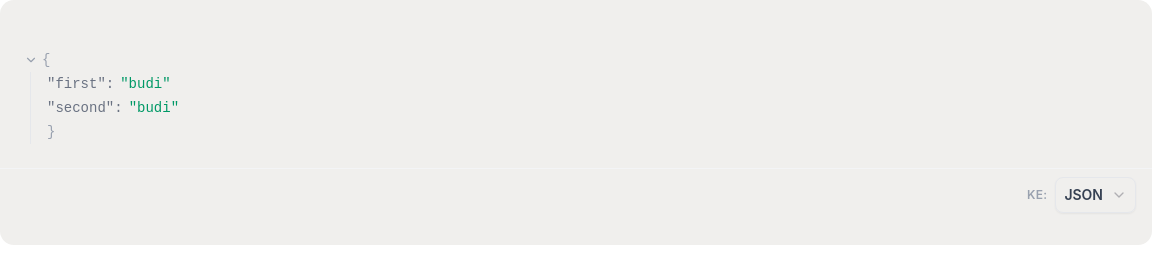
it: in-panel search › cycles through matches with Enter and the toolbar buttons
The width and height of the screenshot is (1152, 262).
Press f
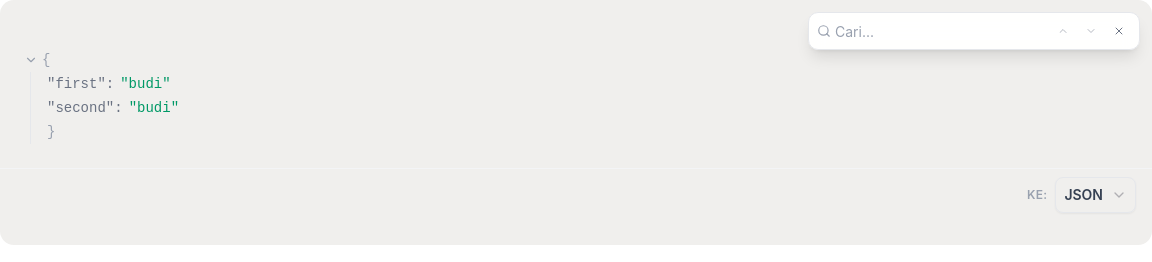
In the field named "Kata kunci pencarian": coordinates (915, 31) x1=835 y1=17 x2=995 y2=45, type "budi"
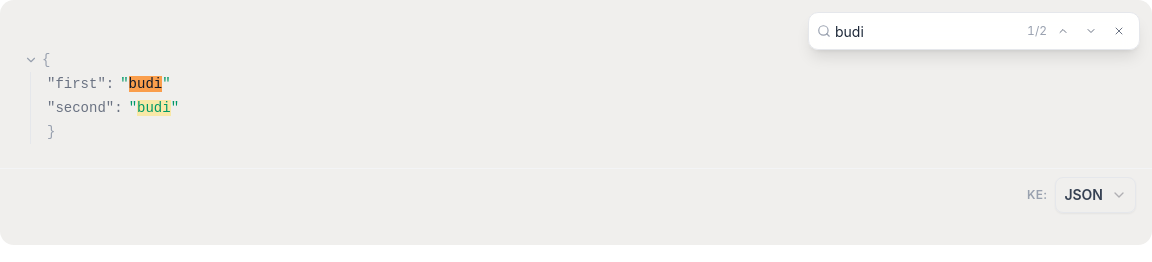
Expected: the text "1/2" is shown, x1=1027 y1=23 x2=1047 y2=38
Press Enter in the field named "Kata kunci pencarian", box x1=835 y1=17 x2=995 y2=45
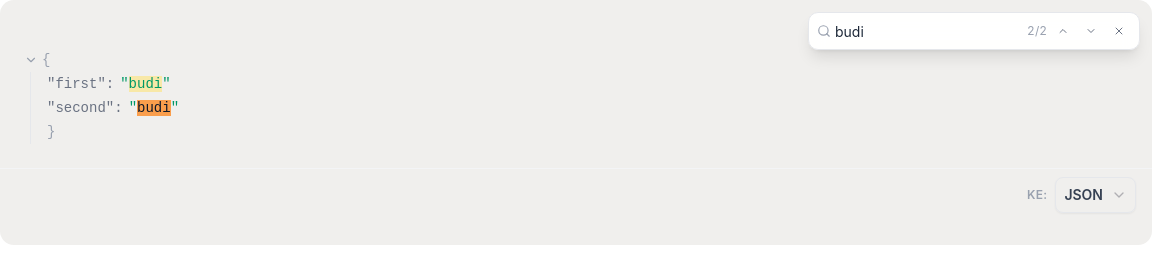
Expected: the text "2/2" is shown, x1=1027 y1=23 x2=1047 y2=38
Press Enter in the field named "Kata kunci pencarian", box x1=835 y1=17 x2=995 y2=45
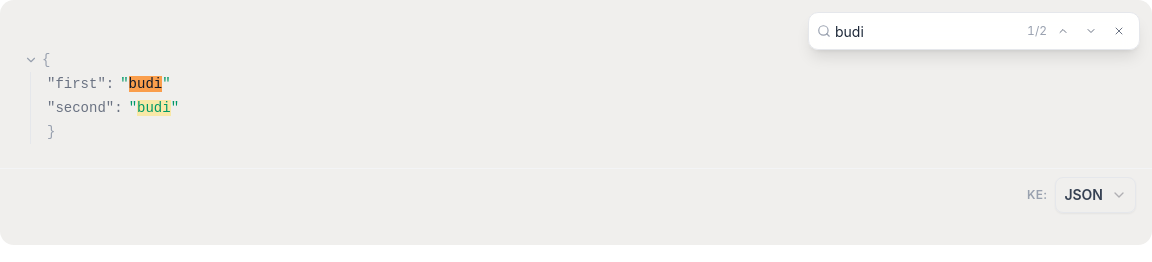
Expected: the text "1/2" is shown, x1=1027 y1=23 x2=1047 y2=38
Click the button named "Hasil sebelumnya": coordinates (1063, 31) x1=1051 y1=19 x2=1075 y2=43
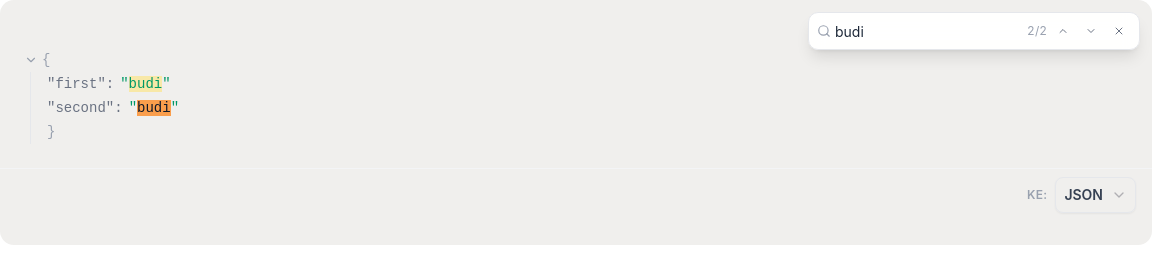
Expected: the text "2/2" is shown, x1=1027 y1=23 x2=1047 y2=38
